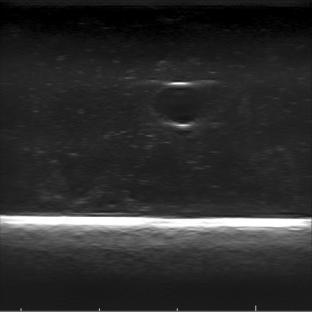vessel: (152, 82, 205, 130)
